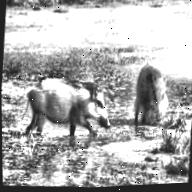boar: (14, 66, 114, 145), (128, 64, 178, 137)
